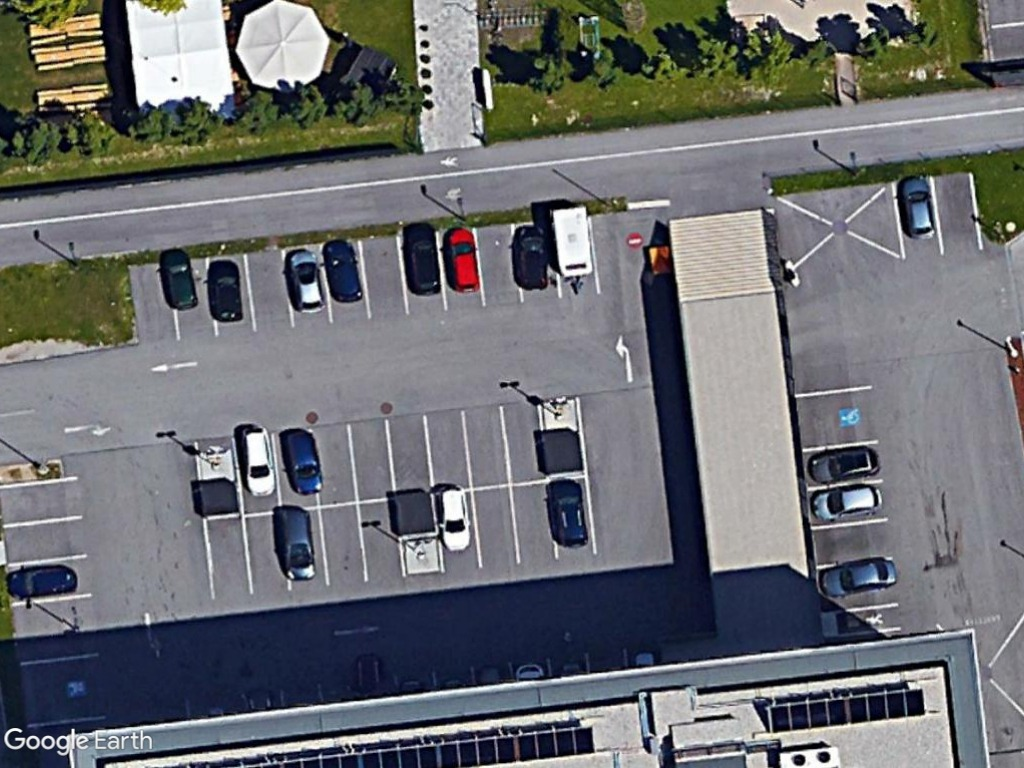car: (232, 418, 278, 502), (815, 556, 902, 599), (277, 423, 327, 497), (808, 481, 888, 526), (543, 473, 588, 552), (203, 253, 250, 328), (284, 244, 330, 320), (0, 560, 82, 602), (320, 234, 366, 307), (400, 220, 443, 298), (439, 221, 482, 297), (898, 170, 940, 247), (804, 443, 881, 485), (433, 481, 475, 557), (156, 243, 198, 317)
